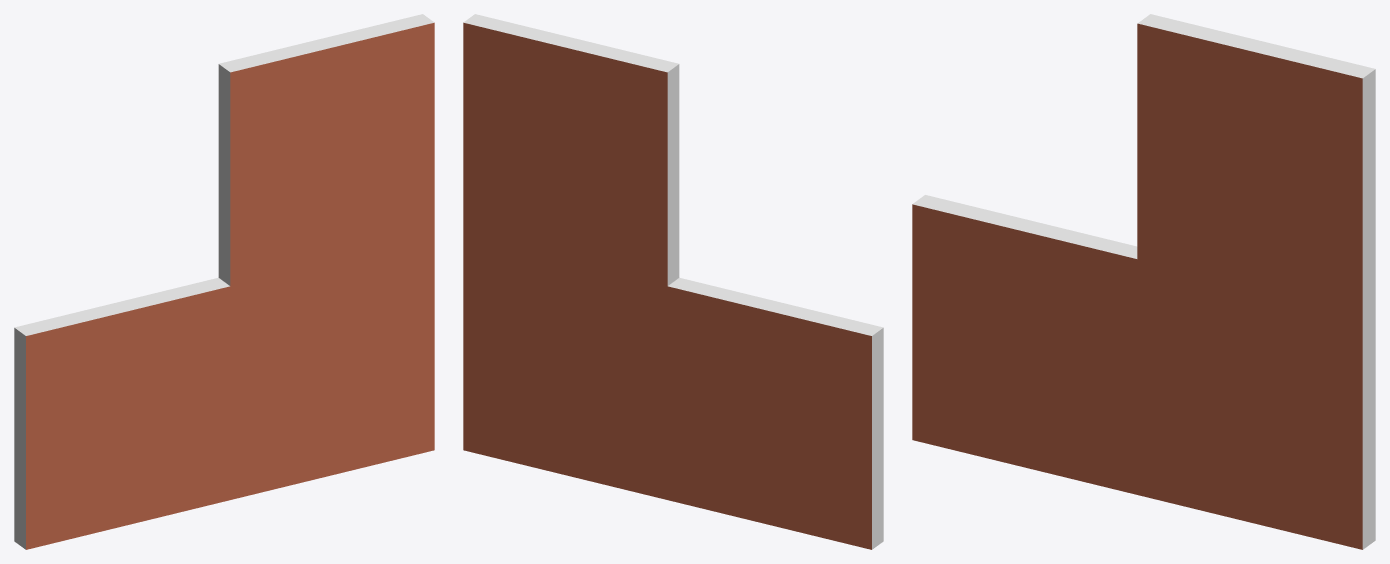
File: Walls_083.glb
3 views of the same model, side by side, from view 1: azimuth 30°, elevation 25°; view 2: azimuth 150°, elevation 25°; view 3: azimuth 330°, elevation 25° (orthographic). The views are drawn at different scales.
Visible parts, largest first — view 1: Walls_083; view 2: Walls_083; view 3: Walls_083.
Boxes of the visible parts, x1,y1,x2,y2 form: Walls_083: (14,14,434,549); Walls_083: (463,14,883,549); Walls_083: (912,14,1375,549).
Size of the model in its own units: 4 by 4 by 0.2.
Materials: 1 (1 with a texture image).
